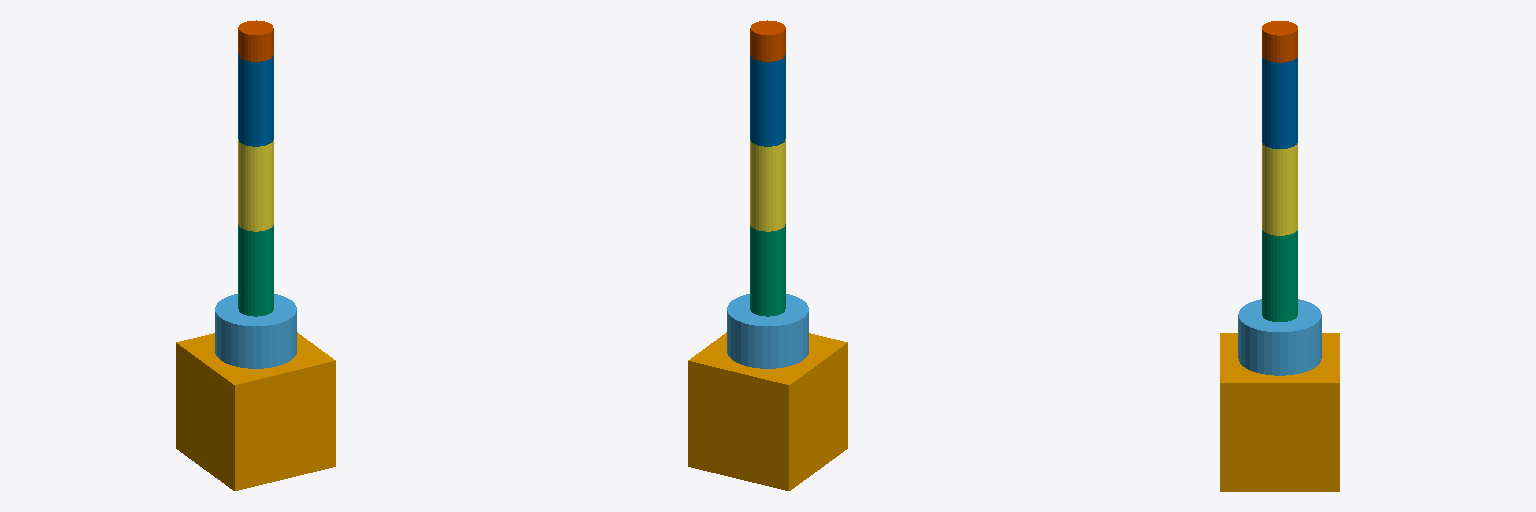
URDF robot description (mrm):
<?xml version="1.0" ?>
<!-- =================================================================================== -->
<!-- |    This document was autogenerated by xacro from arm.xacro                      | -->
<!-- |    EDITING THIS FILE BY HAND IS NOT RECOMMENDED                                 | -->
<!-- =================================================================================== -->
<robot name="mrm">
  <!-- END - Include -->
  <link name="base_link">
    <inertial>
      <mass value="1024"/>
      <origin rpy="0 0 0" xyz="0 0 0"/>
      <inertia ixx="170.667" ixy="0" ixz="0" iyy="170.667" iyz="0" izz="170.667"/>
    </inertial>
    <collision>
      <origin rpy="0 0 0" xyz="0 0 0"/>
      <geometry>
        <box size="1 1 1"/>
      </geometry>
    </collision>
    <visual>
      <origin rpy="0 0 0" xyz="0 0 0"/>
      <geometry>
        <box size="1 1 1"/>
      </geometry>
    </visual>
  </link>
  <joint name="base_link__link_01" type="revolute">
    <axis xyz="0 0 1"/>
    <limit effort="1000" lower="-3.14" upper="3.14" velocity="0.5"/>
    <origin rpy="0 0 0" xyz="0 0 0.5"/>
    <parent link="base_link"/>
    <child link="link_01"/>
  </joint>
  <transmission name="trans_base_link__link_01">
    <type>transmission_interface/SimpleTransmission</type>
    <joint name="base_link__link_01">
      <hardwareInterface>hardware_interface/EffortJointInterface</hardwareInterface>
    </joint>
    <actuator name="motor_base_link__link_01">
      <hardwareInterface>hardware_interface/EffortJointInterface</hardwareInterface>
      <mechanicalReduction>1</mechanicalReduction>
    </actuator>
  </transmission>
  <!-- <m_link_mesh name="${link_01_name}"
              origin_rpy="0 0 0" origin_xyz="0 0 -0.1"
              mass="157.633"
              ixx="13.235" ixy="0" ixz="0"
              iyy="13.235" iyz="0"
              izz="9.655"
              meshfile="package://mrm_description/meshes/Link1-v2.stl"
              meshscale="0.001 0.001 0.001" /> -->
  <link name="link_01">
    <inertial>
      <mass value="157.633"/>
      <origin rpy="0 0 0" xyz="0 0 0.2"/>
      <inertia ixx="13.235" ixy="0" ixz="0" iyy="13.235" iyz="0" izz="9.655"/>
    </inertial>
    <collision>
      <origin rpy="0 0 0" xyz="0 0 0.2"/>
      <geometry>
        <cylinder length="0.4" radius="0.35"/>
      </geometry>
    </collision>
    <visual>
      <origin rpy="0 0 0" xyz="0 0 0.2"/>
      <geometry>
        <cylinder length="0.4" radius="0.35"/>
      </geometry>
    </visual>
  </link>
  <joint name="link_01__link_02" type="revolute">
    <axis xyz="0 1 0"/>
    <limit effort="1000" lower="0" upper="0.5" velocity="0.5"/>
    <origin rpy="0 0 0" xyz="0 0 0.4"/>
    <parent link="link_01"/>
    <child link="link_02"/>
  </joint>
  <transmission name="trans_link_01__link_02">
    <type>transmission_interface/SimpleTransmission</type>
    <joint name="link_01__link_02">
      <hardwareInterface>hardware_interface/EffortJointInterface</hardwareInterface>
    </joint>
    <actuator name="motor_link_01__link_02">
      <hardwareInterface>hardware_interface/EffortJointInterface</hardwareInterface>
      <mechanicalReduction>1</mechanicalReduction>
    </actuator>
  </transmission>
  <link name="link_02">
    <inertial>
      <mass value="57.906"/>
      <origin rpy="0 0 0" xyz="0 0 0.4"/>
      <inertia ixx="12.679" ixy="0" ixz="0" iyy="12.679" iyz="0" izz="0.651"/>
    </inertial>
    <collision>
      <origin rpy="0 0 0" xyz="0 0 0.4"/>
      <geometry>
        <cylinder length="0.8" radius="0.15"/>
      </geometry>
    </collision>
    <visual>
      <origin rpy="0 0 0" xyz="0 0 0.4"/>
      <geometry>
        <cylinder length="0.8" radius="0.15"/>
      </geometry>
    </visual>
  </link>
  <joint name="link_02__link_03" type="revolute">
    <axis xyz="0 1 0"/>
    <limit effort="1000" lower="0" upper="0.75" velocity="0.5"/>
    <origin rpy="0 0 0" xyz="0 0 0.8"/>
    <parent link="link_02"/>
    <child link="link_03"/>
  </joint>
  <transmission name="trans_link_02__link_03">
    <type>transmission_interface/SimpleTransmission</type>
    <joint name="link_02__link_03">
      <hardwareInterface>hardware_interface/EffortJointInterface</hardwareInterface>
    </joint>
    <actuator name="motor_link_02__link_03">
      <hardwareInterface>hardware_interface/EffortJointInterface</hardwareInterface>
      <mechanicalReduction>1</mechanicalReduction>
    </actuator>
  </transmission>
  <link name="link_03">
    <inertial>
      <mass value="57.906"/>
      <origin rpy="0 0 0" xyz="0 0 0.4"/>
      <inertia ixx="12.679" ixy="0" ixz="0" iyy="12.679" iyz="0" izz="0.651"/>
    </inertial>
    <collision>
      <origin rpy="0 0 0" xyz="0 0 0.4"/>
      <geometry>
        <cylinder length="0.8" radius="0.15"/>
      </geometry>
    </collision>
    <visual>
      <origin rpy="0 0 0" xyz="0 0 0.4"/>
      <geometry>
        <cylinder length="0.8" radius="0.15"/>
      </geometry>
    </visual>
  </link>
  <joint name="link_03__link_04" type="revolute">
    <axis xyz="0 1 0"/>
    <limit effort="1000" lower="0" upper="0.75" velocity="0.5"/>
    <origin rpy="0 0 0" xyz="0 0 0.8"/>
    <parent link="link_03"/>
    <child link="link_04"/>
  </joint>
  <transmission name="trans_link_03__link_04">
    <type>transmission_interface/SimpleTransmission</type>
    <joint name="link_03__link_04">
      <hardwareInterface>hardware_interface/EffortJointInterface</hardwareInterface>
    </joint>
    <actuator name="motor_link_03__link_04">
      <hardwareInterface>hardware_interface/EffortJointInterface</hardwareInterface>
      <mechanicalReduction>1</mechanicalReduction>
    </actuator>
  </transmission>
  <link name="link_04">
    <inertial>
      <mass value="57.906"/>
      <origin rpy="0 0 0" xyz="0 0 0.4"/>
      <inertia ixx="12.679" ixy="0" ixz="0" iyy="12.679" iyz="0" izz="0.651"/>
    </inertial>
    <collision>
      <origin rpy="0 0 0" xyz="0 0 0.4"/>
      <geometry>
        <cylinder length="0.8" radius="0.15"/>
      </geometry>
    </collision>
    <visual>
      <origin rpy="0 0 0" xyz="0 0 0.4"/>
      <geometry>
        <cylinder length="0.8" radius="0.15"/>
      </geometry>
    </visual>
  </link>
  <joint name="link_04__link_05" type="revolute">
    <axis xyz="0 0 1"/>
    <limit effort="1000" lower="-3.14" upper="3.14" velocity="0.5"/>
    <origin rpy="0 0 0" xyz="0 0 0.8"/>
    <parent link="link_04"/>
    <child link="link_05"/>
  </joint>
  <transmission name="trans_link_04__link_05">
    <type>transmission_interface/SimpleTransmission</type>
    <joint name="link_04__link_05">
      <hardwareInterface>hardware_interface/EffortJointInterface</hardwareInterface>
    </joint>
    <actuator name="motor_link_04__link_05">
      <hardwareInterface>hardware_interface/EffortJointInterface</hardwareInterface>
      <mechanicalReduction>1</mechanicalReduction>
    </actuator>
  </transmission>
  <link name="link_05">
    <inertial>
      <mass value="18.056"/>
      <origin rpy="0 0 0" xyz="0 0 0.125"/>
      <inertia ixx="0.479" ixy="0" ixz="0" iyy="0.479" iyz="0" izz="0.204"/>
    </inertial>
    <collision>
      <origin rpy="0 0 0" xyz="0 0 0.125"/>
      <geometry>
        <cylinder length="0.25" radius="0.15"/>
      </geometry>
    </collision>
    <visual>
      <origin rpy="0 0 0" xyz="0 0 0.125"/>
      <geometry>
        <cylinder length="0.25" radius="0.15"/>
      </geometry>
    </visual>
  </link>
  <!-- END - Robot description -->
  <gazebo>
    <plugin filename="libgazebo_ros_control.so" name="gazebo_ros_control">
      
    </plugin>
  </gazebo>
</robot>

--- Render facts (derived) ---
The picture shows the robot from 3 angles, left to right: view 1: azimuth 30°, elevation 25°; view 2: azimuth 150°, elevation 25°; view 3: azimuth 270°, elevation 25°; orthographic projection.
Robot: mrm — 6 links, 5 joints (5 revolute); root link base_link; default pose: all joints at 0.
Links seen in each view (by area): view 1: base_link, link_01, link_02, link_03, link_04, link_05; view 2: base_link, link_01, link_02, link_03, link_04, link_05; view 3: base_link, link_01, link_03, link_02, link_04, link_05.
Boxes of the visible links, x1=… form: base_link: x1=176, y1=332, x2=335, y2=490; link_01: x1=215, y1=294, x2=296, y2=368; link_02: x1=238, y1=224, x2=273, y2=316; link_03: x1=238, y1=139, x2=273, y2=231; link_04: x1=238, y1=54, x2=273, y2=146; link_05: x1=238, y1=20, x2=273, y2=61; base_link: x1=688, y1=332, x2=847, y2=490; link_01: x1=727, y1=294, x2=808, y2=368; link_02: x1=750, y1=224, x2=785, y2=316; link_03: x1=750, y1=139, x2=785, y2=231; link_04: x1=750, y1=54, x2=785, y2=146; link_05: x1=750, y1=20, x2=785, y2=61; base_link: x1=1220, y1=333, x2=1339, y2=491; link_01: x1=1238, y1=299, x2=1321, y2=375; link_03: x1=1262, y1=143, x2=1297, y2=235; link_02: x1=1262, y1=230, x2=1297, y2=321; link_04: x1=1262, y1=57, x2=1297, y2=148; link_05: x1=1262, y1=21, x2=1297, y2=62.
Size in the robot's own frame: 1 by 1 by 4.05 metres.
Geometry: primitives only (box / cylinder / sphere), no mesh files.
